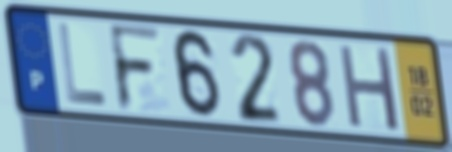2: (228, 32, 283, 126)
6: (170, 26, 225, 122)
8: (285, 38, 338, 130)
F: (105, 21, 165, 115)
H: (335, 41, 403, 135)
L: (55, 19, 111, 109)
